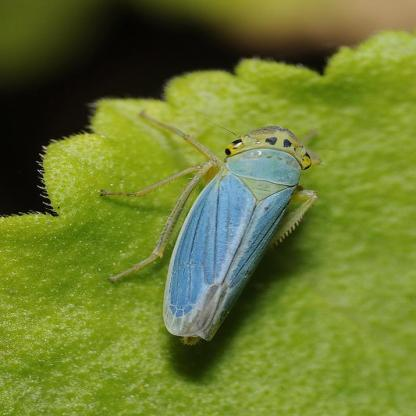Green-Leafhopper: (91, 103, 320, 351)
